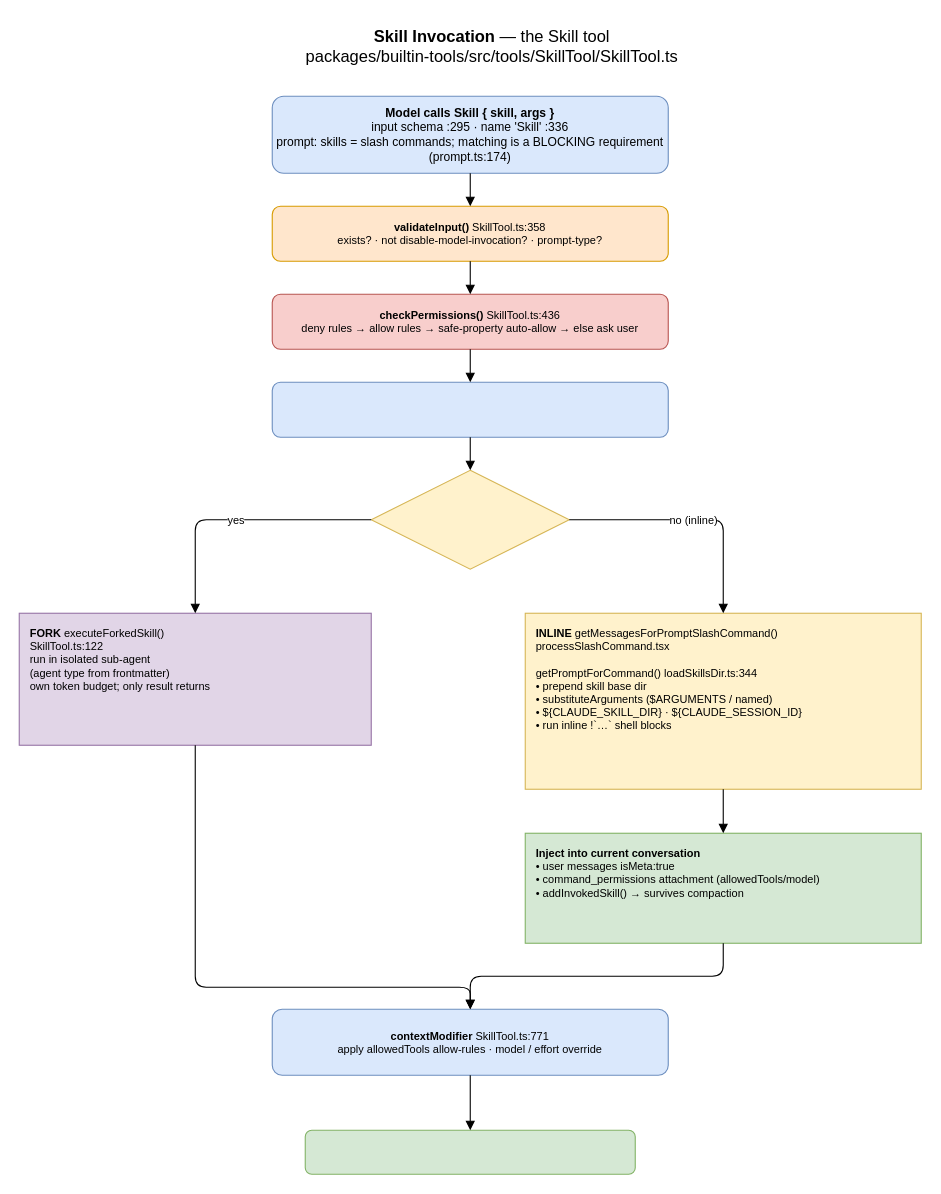
The diagram is 941 pixels wide and 1194 high, and some of its shapes have lost their labels. The centre of each missing label's shape, as x and y in pixels:
"Back to agent loop (next turn applies the skill)" belongs at point (469, 1151).
"context == 'fork' ? SkillTool.ts:122" belongs at point (469, 519).
"Locate getAllCommands() + findCommand() SkillTool.ts:81 / commands.ts:774" belongs at point (469, 409).
